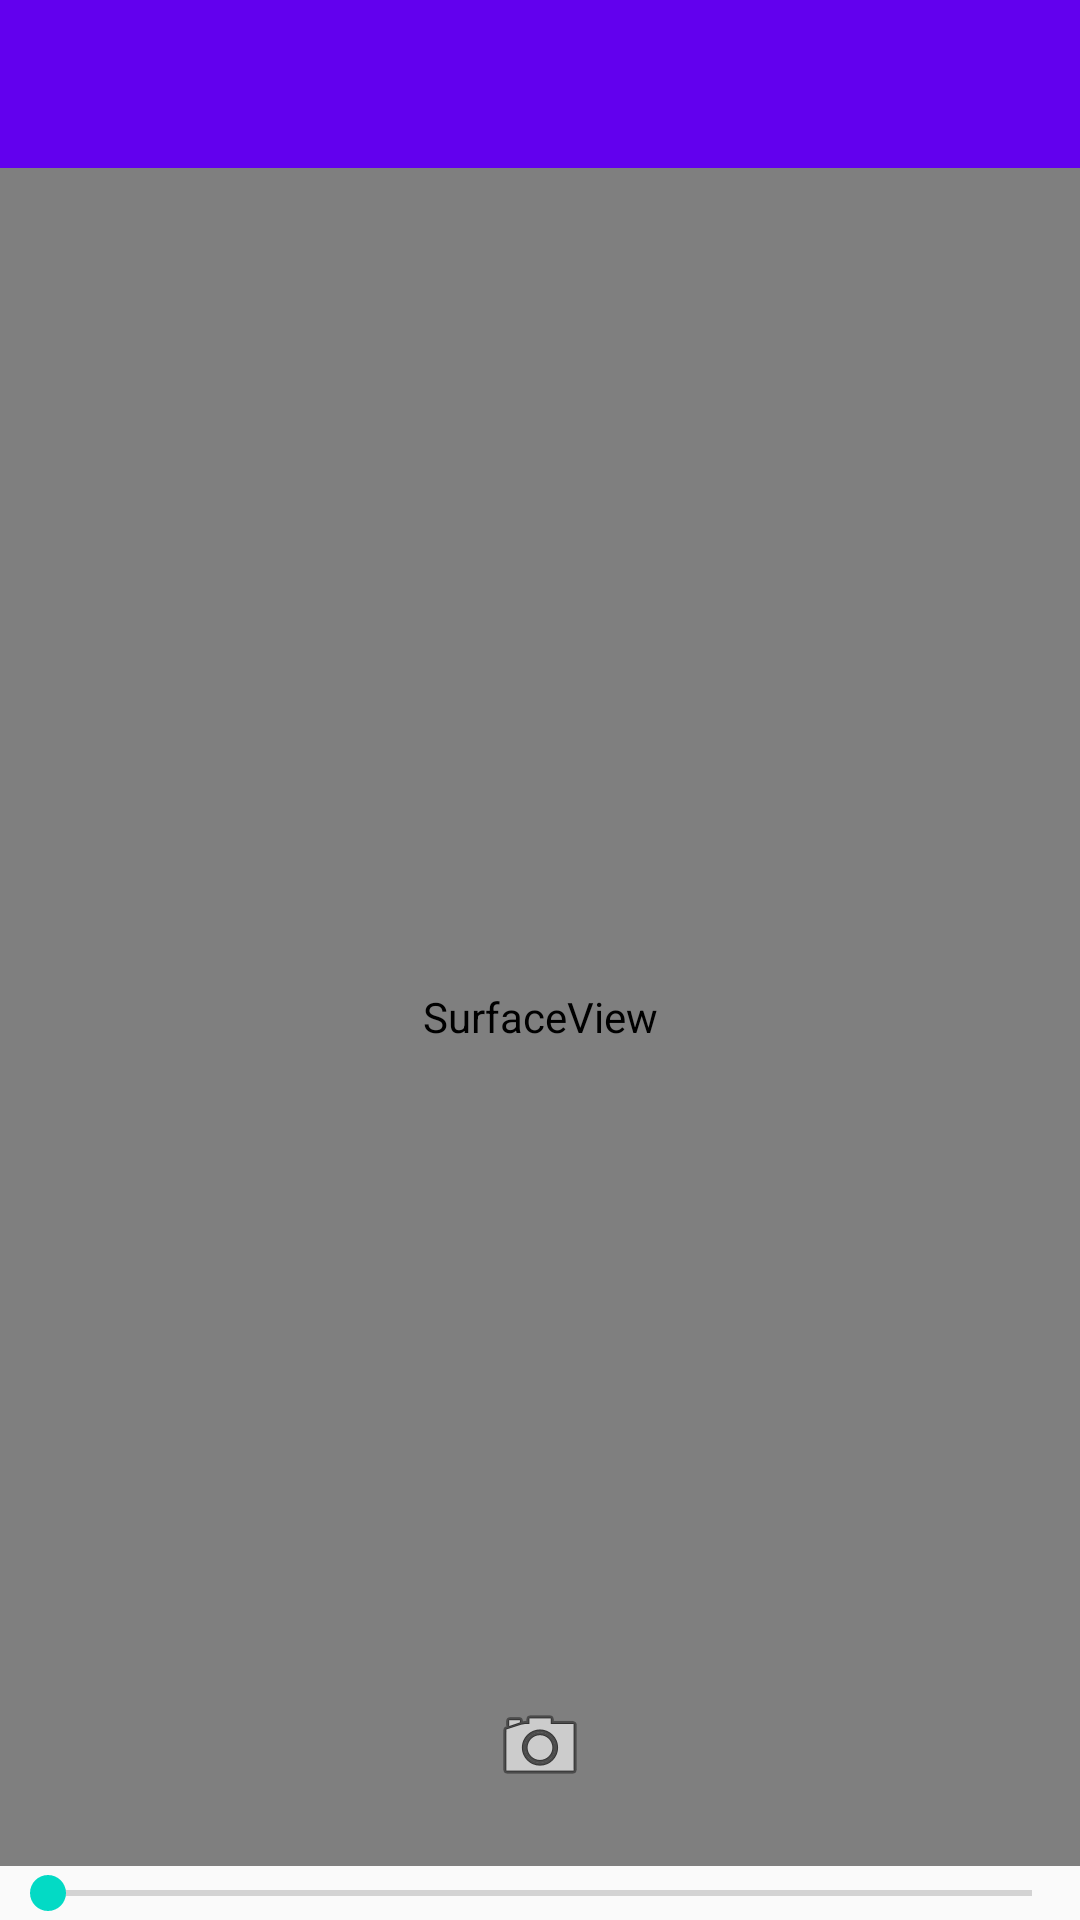

Point at icon controls on the screen. Image size 1080px x 1920px, points as point (x, y).
camera: point (540, 1744)
